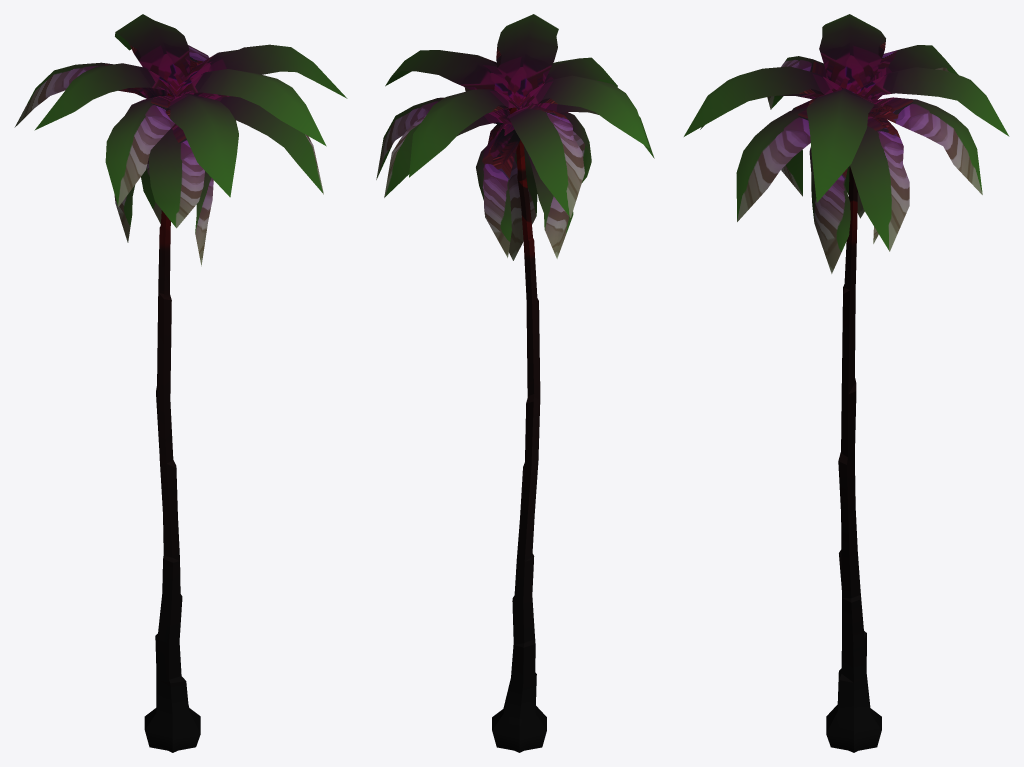
The model's file is SM_Env_Tree_Palm_03.gltf.
3 renders of one model, left to right at view 1: azimuth 30°, elevation 25°; view 2: azimuth 150°, elevation 25°; view 3: azimuth 270°, elevation 25°, orthographic. The views are drawn at different scales.
Visible parts, largest first — view 1: SM_Env_Tree_Palm_03_LOD0; view 2: SM_Env_Tree_Palm_03_LOD0; view 3: SM_Env_Tree_Palm_03_LOD0.
Part boxes in pixels (x1,y1,x2,y2): SM_Env_Tree_Palm_03_LOD0: (14, 14, 347, 752); SM_Env_Tree_Palm_03_LOD0: (376, 14, 654, 752); SM_Env_Tree_Palm_03_LOD0: (684, 14, 1009, 752).
Size of what is drawn, in the model's own units: 5.2 by 11.96 by 5.06.
Materials: 1 (1 with a texture image).
